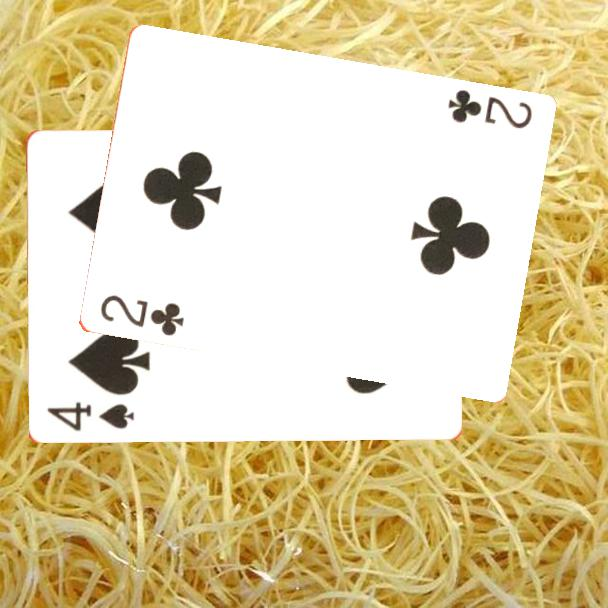c02: (96, 291, 186, 340), (443, 86, 535, 132)
s04: (43, 398, 137, 434)
